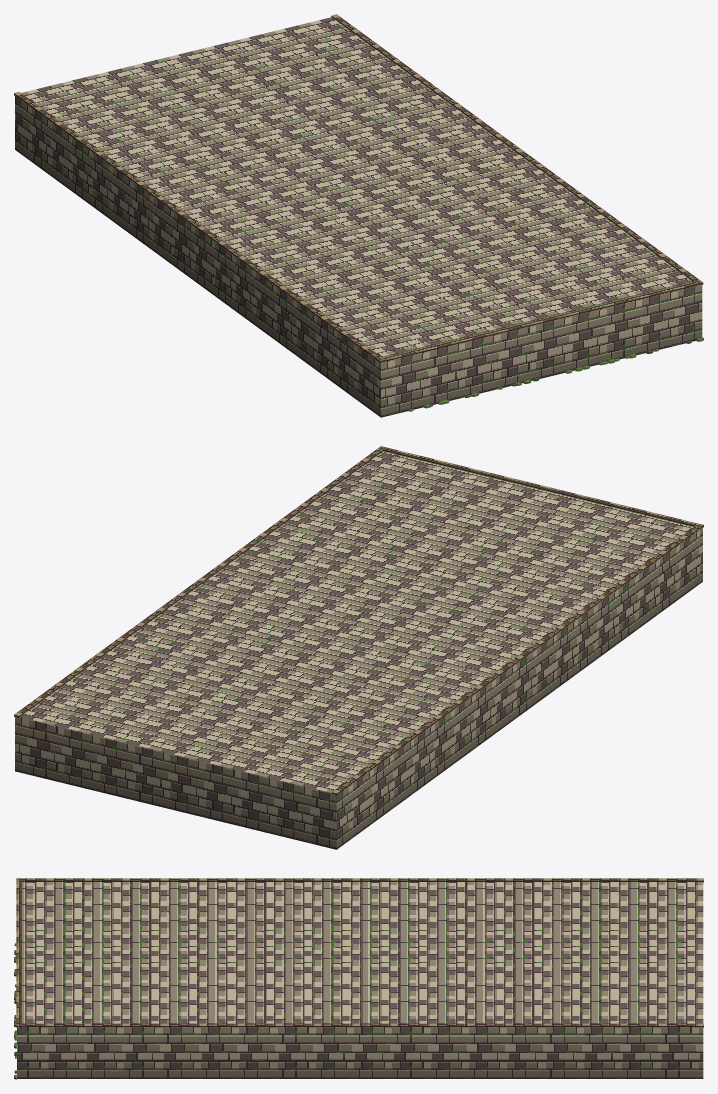
The model's file is scene_wall_w.glb.
The picture shows the model from 3 angles, top to bottom: view 1: azimuth 30°, elevation 25°; view 2: azimuth 150°, elevation 25°; view 3: azimuth 270°, elevation 25°; orthographic projection. The views are drawn at different scales.
Parts seen in each view (by area): view 1: scene_wall_w; view 2: scene_wall_w; view 3: scene_wall_w.
Part boxes in pixels (x1,y1,x2,y2): scene_wall_w: (14, 14, 703, 417); scene_wall_w: (14, 446, 703, 849); scene_wall_w: (14, 878, 703, 1079).
Bounding box in the file's own units: 21.93 × 3.77 × 43.24.
2 materials, 1 textured.
